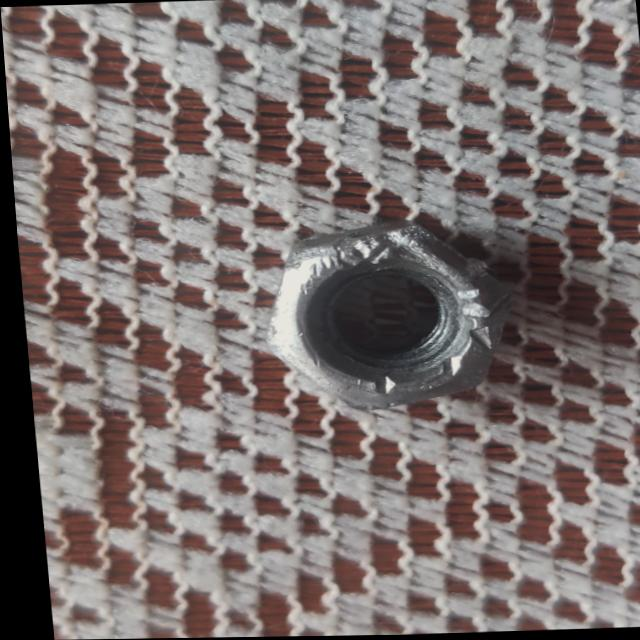infected nut: (262, 222, 505, 409)
